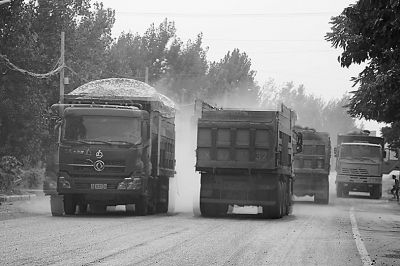chaozhai: (48, 73, 176, 220)
